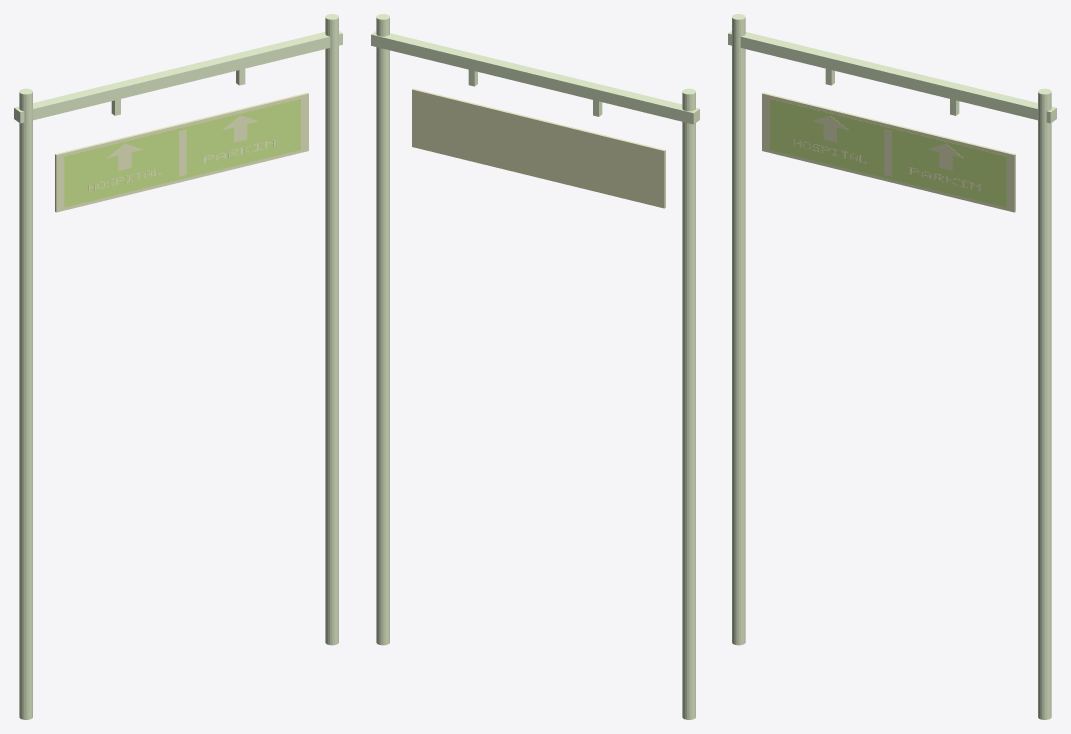
Rendered from sign_overhead_hospital_parking_split.glb.
The picture shows the model from 3 angles, left to right: view 1: azimuth 30°, elevation 25°; view 2: azimuth 150°, elevation 25°; view 3: azimuth 330°, elevation 25°; orthographic projection.
Visible parts, largest first — view 1: layer_1_00, pole_right, pole_left, crossbar, plate_base_00; view 2: plate_base_00, pole_left, pole_right, crossbar; view 3: layer_1_00, pole_left, pole_right, crossbar, plate_base_00.
Part boxes in pixels (bbox=[...]): layer_1_00: bbox=[64, 98, 300, 207]; pole_right: bbox=[325, 14, 338, 645]; pole_left: bbox=[19, 88, 32, 719]; crossbar: bbox=[14, 31, 342, 123]; plate_base_00: bbox=[55, 92, 308, 212]; plate_base_00: bbox=[412, 88, 665, 208]; pole_left: bbox=[682, 88, 695, 719]; pole_right: bbox=[376, 14, 389, 645]; crossbar: bbox=[371, 31, 699, 124]; layer_1_00: bbox=[770, 98, 1006, 207]; pole_left: bbox=[732, 14, 745, 645]; pole_right: bbox=[1038, 88, 1051, 719]; crossbar: bbox=[728, 31, 1056, 123]; plate_base_00: bbox=[762, 92, 1015, 212].
Bounding box in the file's own units: 2.7 × 5 × 0.108.
